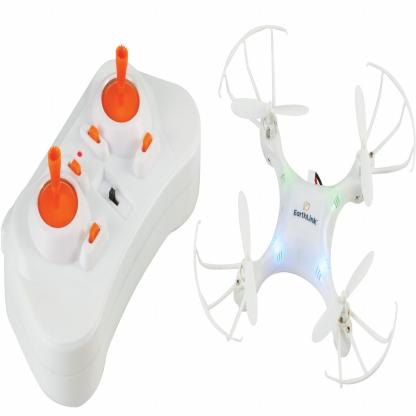drone: (191, 24, 415, 389)
